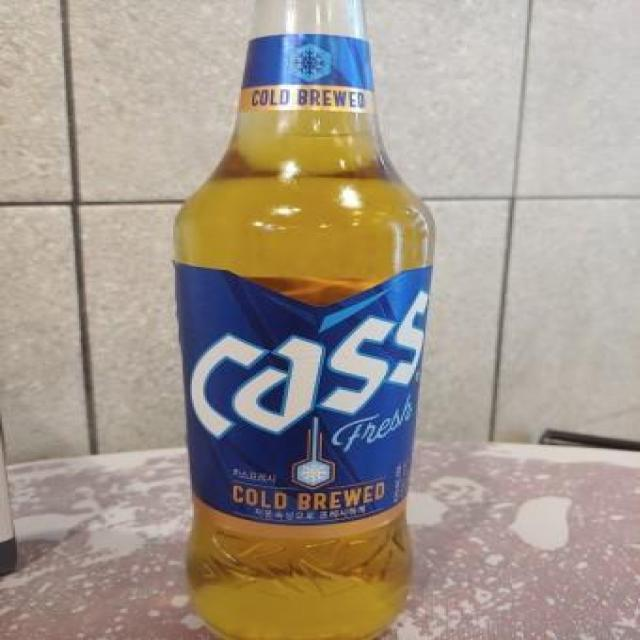beer-bottle: (186, 0, 470, 640)
